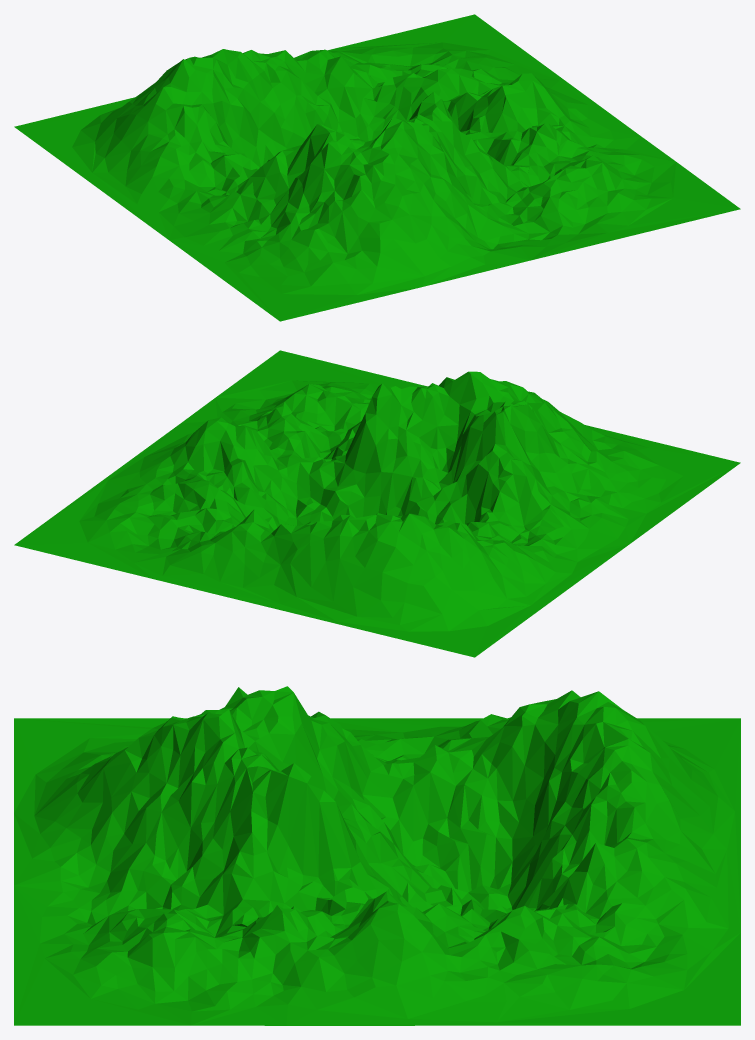
File: Mountain1.fbx
3 renders of one model, top to bottom at view 1: azimuth 30°, elevation 25°; view 2: azimuth 150°, elevation 25°; view 3: azimuth 270°, elevation 25°, orthographic. The views are drawn at different scales.
Parts seen in each view (by area): view 1: Landscape.003; view 2: Landscape.003; view 3: Landscape.003.
Part boxes in pixels (x1,y1,x2,y2): Landscape.003: (14,14,740,321); Landscape.003: (14,350,740,657); Landscape.003: (14,686,740,1025).
Size of the model in its own units: 200 by 65.23 by 200.
